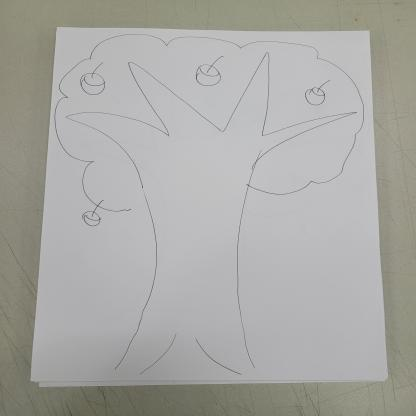apple: (78, 67, 110, 97), (188, 62, 224, 86), (302, 85, 329, 106), (82, 207, 104, 229)
branch_sharp: (60, 50, 359, 157)
crown_cloud: (53, 33, 368, 209), (108, 344, 262, 378)
trunk_straight: (144, 210, 250, 306)
